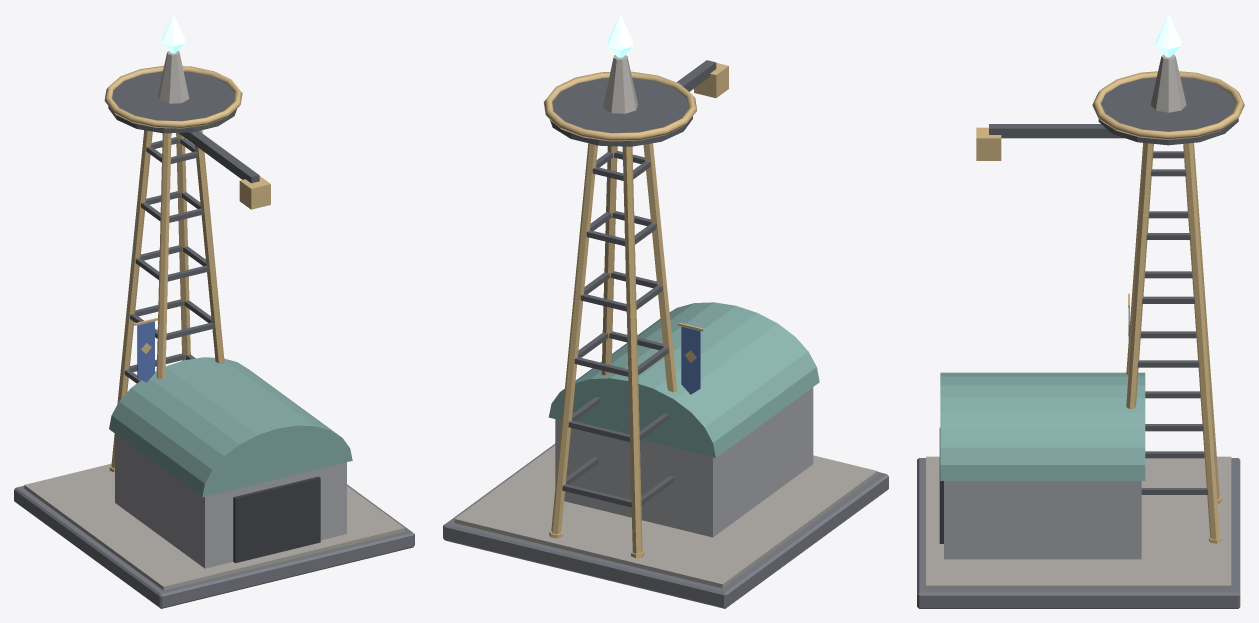
File: skyport.glb
3 renders of one model, left to right at view 1: azimuth 30°, elevation 25°; view 2: azimuth 150°, elevation 25°; view 3: azimuth 270°, elevation 25°, orthographic. The views are drawn at different scales.
Visible parts, largest first — view 1: skyport; view 2: skyport; view 3: skyport.
Boxes of the visible parts, x1,y1,x2,y2 form: skyport: [14, 14, 414, 608]; skyport: [443, 14, 888, 608]; skyport: [917, 14, 1244, 608].
Size of the model in its own units: 18 by 32.4 by 18.25.
